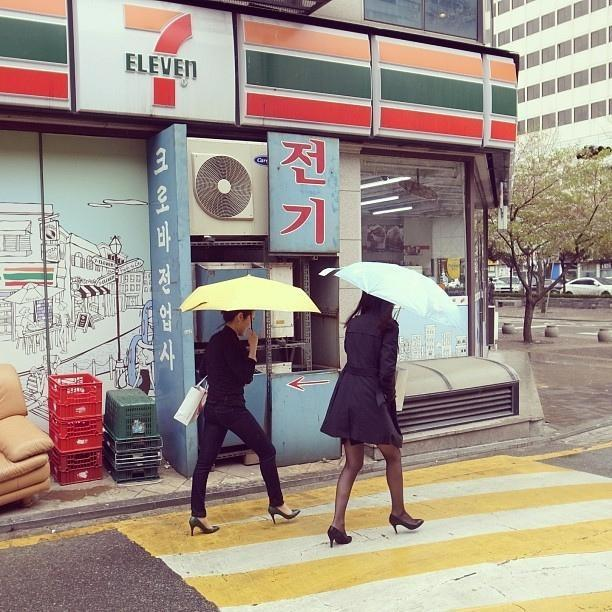car: (564, 275, 612, 297), (532, 280, 564, 296), (494, 276, 524, 293)
